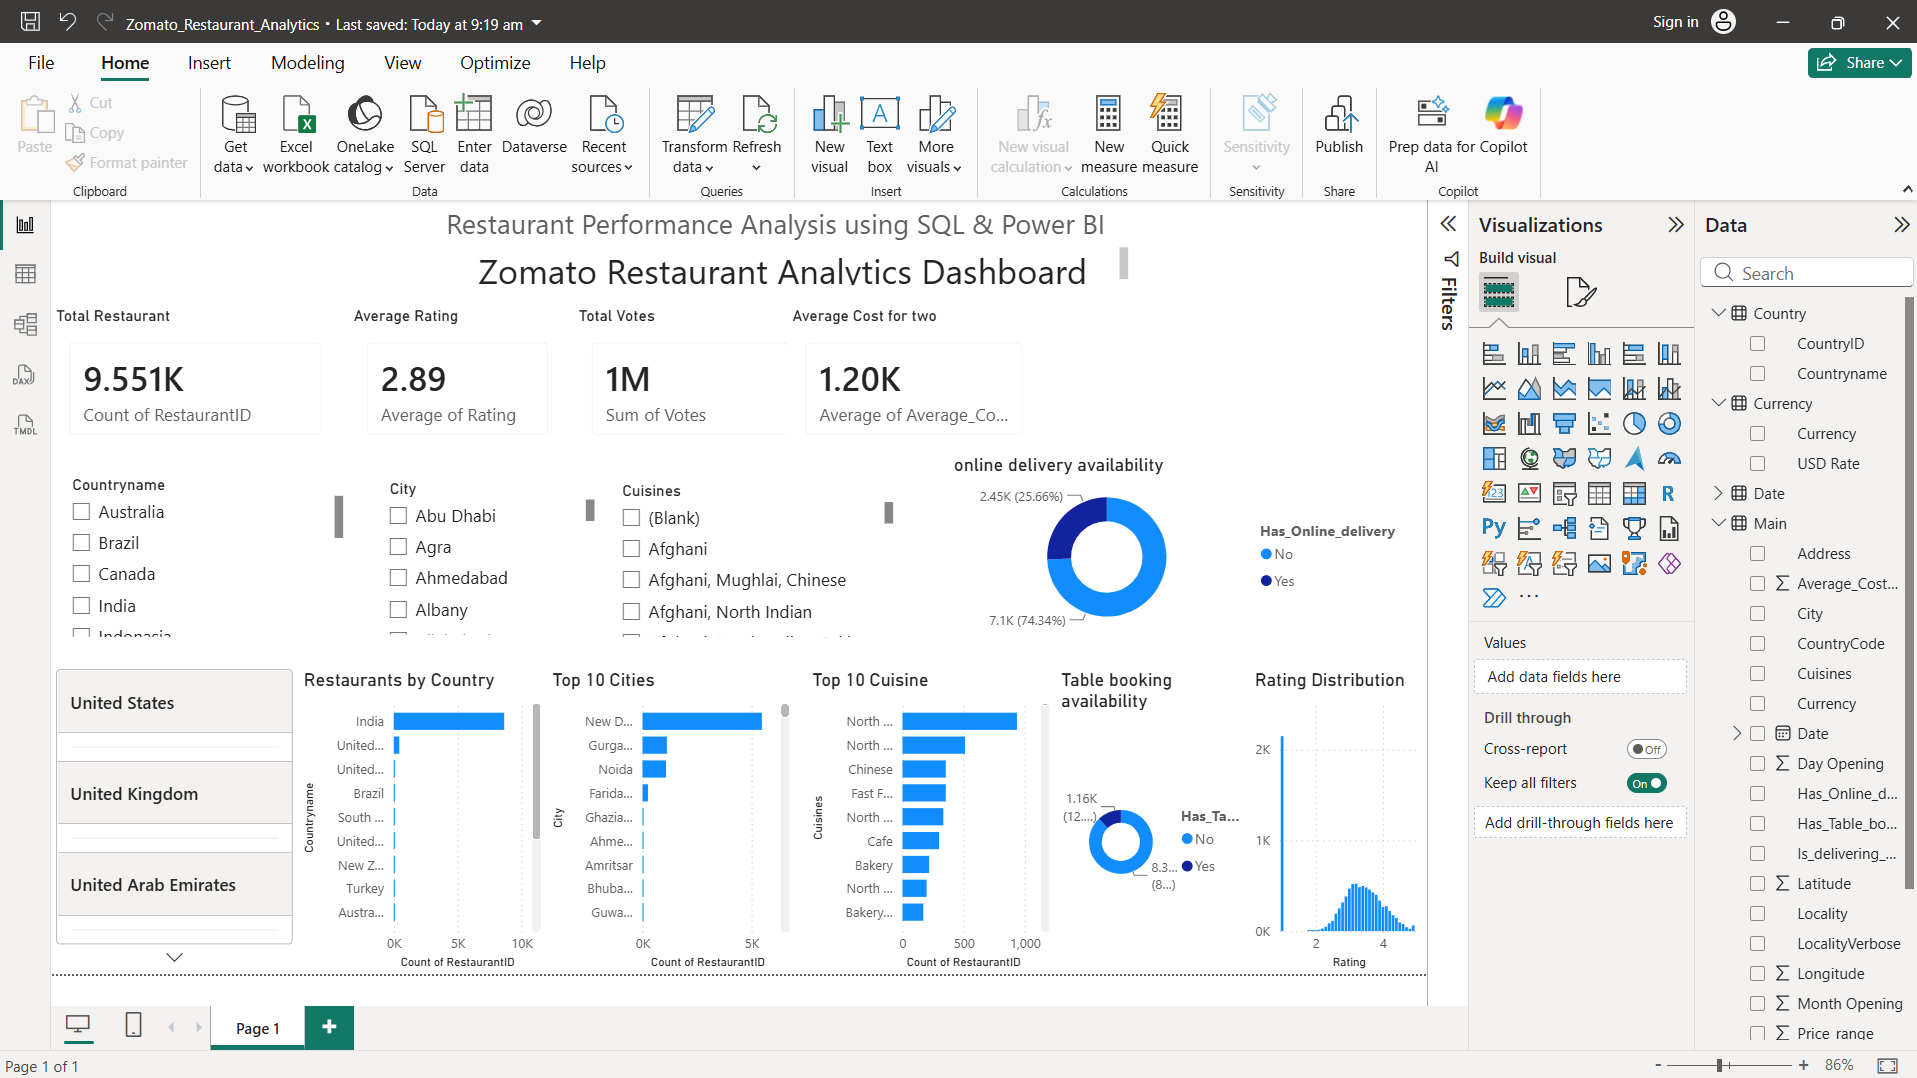

The dashboard page shown, as its layout file describes it:
{"tool":"powerbi","page":{"name":"Page 1","canvas":[1280,720],"ordinal":0},"visuals":[{"type":"cardVisual","title":"Total Restaurant","fields":{"Data":["CountNonNull(Main.RestaurantID)"]},"box":[0,98.8,269.8,137.2],"z":1},{"type":"cardVisual","title":"Average Rating","fields":{"Data":["Avg(Main.Rating)"]},"box":[276.7,98.8,203.5,137.2],"z":2},{"type":"cardVisual","title":"Total Votes","fields":{"Data":["Sum(Main.Votes)"]},"box":[486,98.8,217.4,137.2],"z":3},{"type":"cardVisual","title":"Average Cost for two","fields":{"Data":["Avg(Main.Average_Cost_for_two)"]},"box":[684.9,98.8,236,137.2],"z":4},{"type":"cardVisual","fields":{"Rows":["Country.Countryname"],"Data":["CountNonNull(Main.RestaurantID)"]},"box":[0,411.7,230.5,308.7],"z":5},{"type":"clusteredBarChart","title":"Restaurants by Country","fields":{"Category":["Country.Countryname"],"Y":["CountNonNull(Main.RestaurantID)"]},"box":[230.5,436.4,230.5,284],"z":6},{"type":"clusteredBarChart","title":"Top 10 Cities","fields":{"Category":["Main.City"],"Y":["CountNonNull(Main.RestaurantID)"]},"box":[461.1,436.4,230.5,284],"z":7},{"type":"clusteredBarChart","title":"Top 10 Cuisine","fields":{"Category":["Main.Cuisines"],"Y":["CountNonNull(Main.RestaurantID)"]},"box":[703.9,436.4,230.5,284],"z":8},{"type":"donutChart","title":"online delivery availability","fields":{"Category":["Main.Has_Online_delivery"],"Y":["CountNonNull(Main.RestaurantID)"]},"box":[834.9,236,434.9,173.3],"z":9},{"type":"donutChart","title":"Table booking availability","fields":{"Category":["Main.Has_Table_booking"],"Y":["CountNonNull(Main.RestaurantID)"]},"box":[934.5,436.4,181.1,284],"z":10},{"type":"clusteredColumnChart","title":"Rating Distribution","fields":{"Category":["Main.Rating"],"Y":["CountNonNull(Main.RestaurantID)"]},"box":[1115.6,436.4,164.7,284],"z":11},{"type":"textbox","box":[363.1,0,644.3,84.2],"z":13},{"type":"slicer","fields":{"Values":["Country.Countryname"]},"box":[7,251.2,269.8,160.5],"z":14},{"type":"slicer","fields":{"Values":["Main.City"]},"box":[302.3,254.7,208.1,154.7],"z":15},{"type":"slicer","fields":{"Values":["Main.Cuisines"]},"box":[518.6,257,269.8,154.7],"z":16}]}

Visuals, with their boxes on the page's 1280x720 design canvas (x1, y1, x2, y2). These are canvas units, not pixel positions in the 1917x1078 screenshot, which may show the page scaled, cropped or inside an application window:
"Total Restaurant" cardVisual: 0 99 270 236
"Average Rating" cardVisual: 277 99 480 236
"Total Votes" cardVisual: 486 99 703 236
"Average Cost for two" cardVisual: 685 99 921 236
cardVisual - Country.Countryname x CountNonNull(Main.RestaurantID): 0 412 230 720
"Restaurants by Country" clusteredBarChart: 230 436 461 720
"Top 10 Cities" clusteredBarChart: 461 436 692 720
"Top 10 Cuisine" clusteredBarChart: 704 436 934 720
"online delivery availability" donutChart: 835 236 1270 409
"Table booking availability" donutChart: 934 436 1116 720
"Rating Distribution" clusteredColumnChart: 1116 436 1280 720
textbox: 363 0 1007 84
slicer - Country.Countryname: 7 251 277 412
slicer - Main.City: 302 255 510 409
slicer - Main.Cuisines: 519 257 788 412
